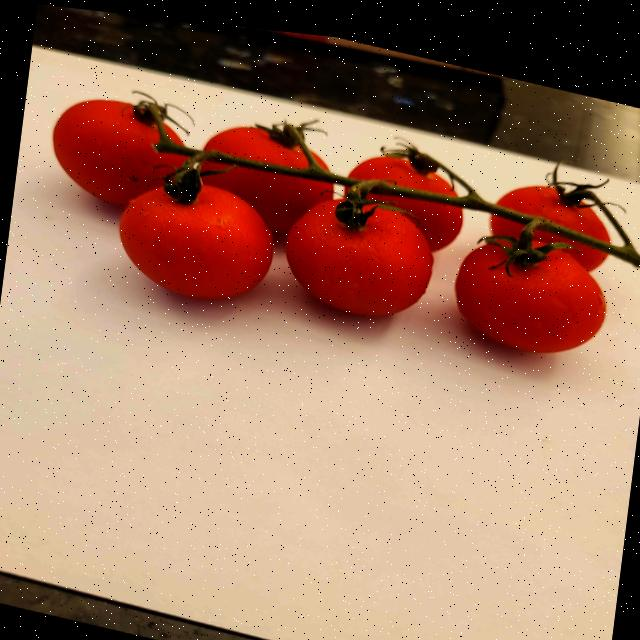ripe2: (119, 185, 272, 299), (285, 199, 432, 316), (454, 243, 605, 352), (52, 100, 176, 206), (214, 168, 333, 233), (496, 186, 609, 242), (205, 127, 307, 167), (533, 231, 606, 271), (490, 214, 522, 237)
